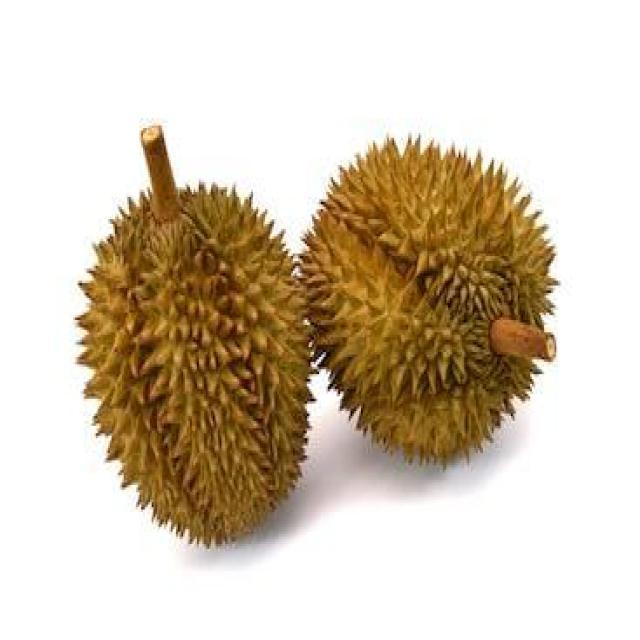mature: (74, 181, 319, 549), (297, 133, 561, 467)
